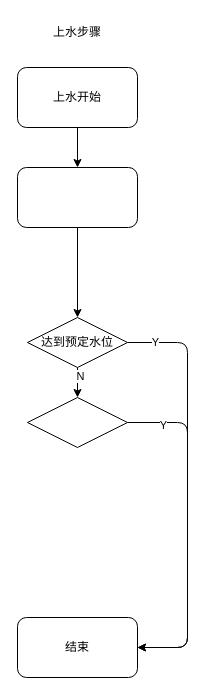
This 213x695 diagram has some shape labels left out. The shapes that lost their labels are listed below. From the top down, each one's centre as x and y in pixels, then its label:
At pixel 77 197: "开泵，记录开始时间".
At pixel 77 422: "超时".
